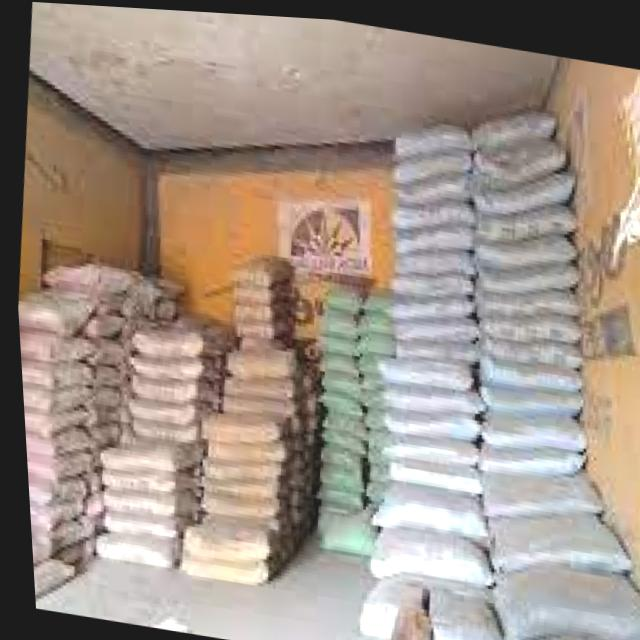cement_bag: (483, 557, 640, 632), (477, 507, 612, 566), (373, 472, 483, 540), (363, 515, 481, 573), (473, 458, 587, 515), (477, 345, 570, 388), (14, 285, 88, 335), (481, 300, 570, 341), (473, 251, 576, 284), (375, 376, 471, 410), (178, 518, 265, 555), (374, 345, 463, 381), (472, 170, 567, 203), (481, 205, 565, 242), (473, 102, 549, 142), (478, 403, 573, 433), (129, 321, 195, 363), (98, 441, 184, 471), (390, 218, 464, 252), (378, 409, 471, 436), (95, 484, 162, 521), (394, 307, 464, 341), (220, 344, 288, 378), (198, 412, 277, 441), (388, 266, 461, 297), (392, 119, 467, 149), (125, 367, 189, 402), (197, 449, 270, 479), (196, 486, 265, 517), (17, 361, 82, 392), (123, 393, 185, 425), (219, 367, 282, 398), (19, 408, 76, 438), (16, 333, 77, 361), (396, 172, 455, 200), (316, 458, 352, 492), (317, 421, 356, 452), (316, 383, 350, 417), (229, 278, 266, 306), (316, 307, 352, 335), (315, 349, 350, 374), (354, 309, 390, 333), (232, 317, 268, 340)
